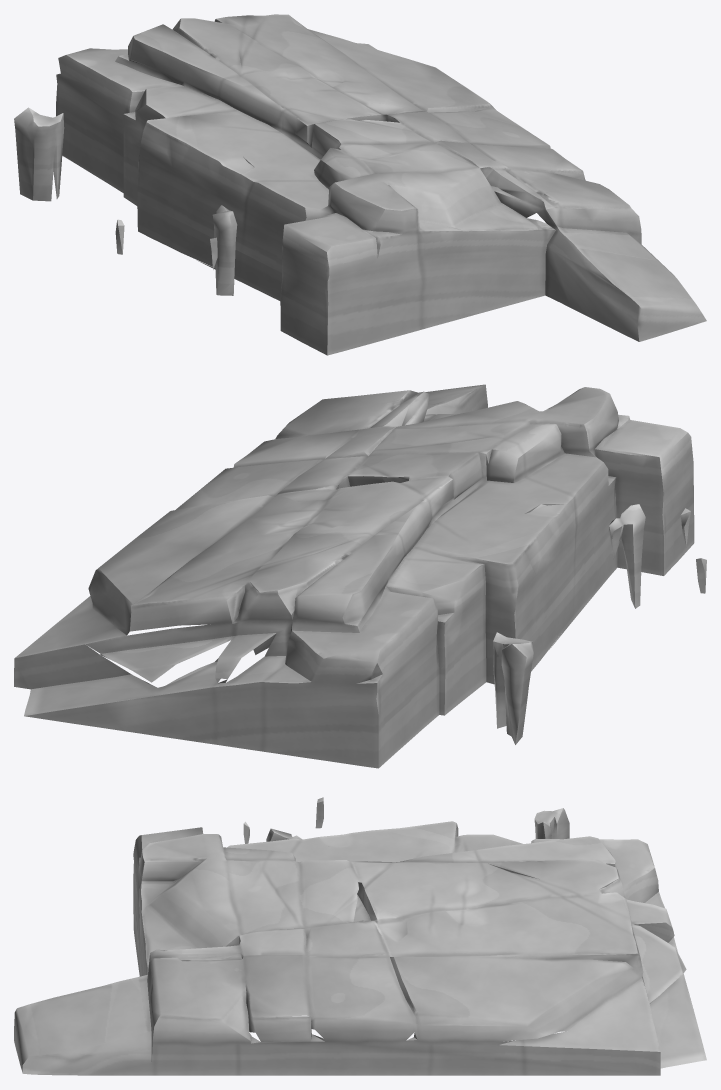
File: sculpted_step_03.glb
3 views of the same model, one above another, from view 1: azimuth 30°, elevation 25°; view 2: azimuth 150°, elevation 25°; view 3: azimuth 270°, elevation 25° (orthographic). The views are drawn at different scales.
Visible parts, largest first — view 1: sculpted_step_03; view 2: sculpted_step_03; view 3: sculpted_step_03.
Part boxes in pixels (<box>): sculpted_step_03: <box>14,14,706,355</box>; sculpted_step_03: <box>14,384,706,768</box>; sculpted_step_03: <box>14,797,706,1075</box>.
Bounding box in the file's own units: 8.92 × 2.48 × 13.21.
1 material, 1 textured.
